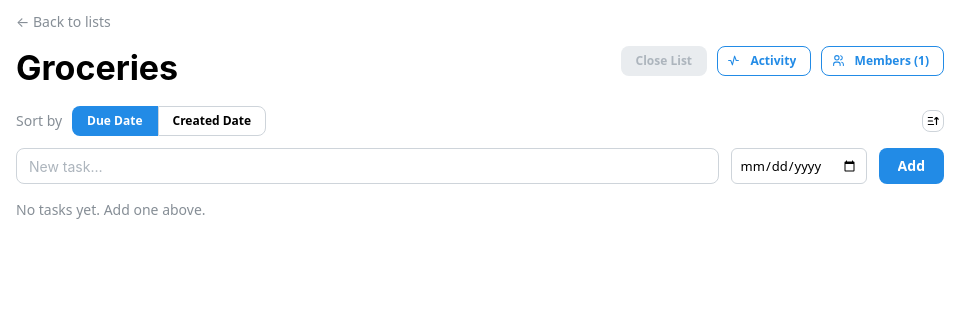
Scenario: ListDetailPage › adds a new task to the list on form submit
The width and height of the screenshot is (965, 329).
Type "Walk the dog" into the field with placeholder "New task…". click: (367, 166)
box: x1=16 y1=148 x2=719 y2=184
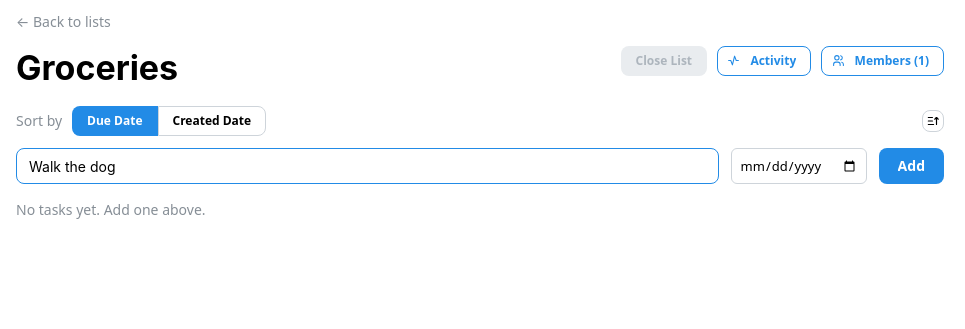
Click the button "Add". click: click(911, 166)
box: x1=879 y1=148 x2=944 y2=184
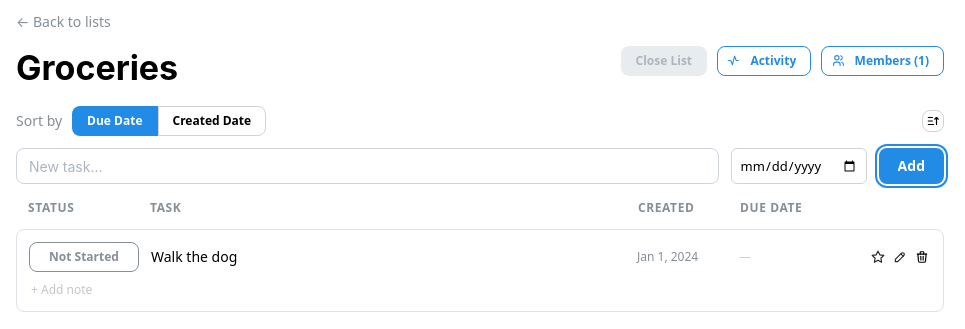
Now the text "Walk the dog" is shown, box x1=151 y1=247 x2=237 y2=266
